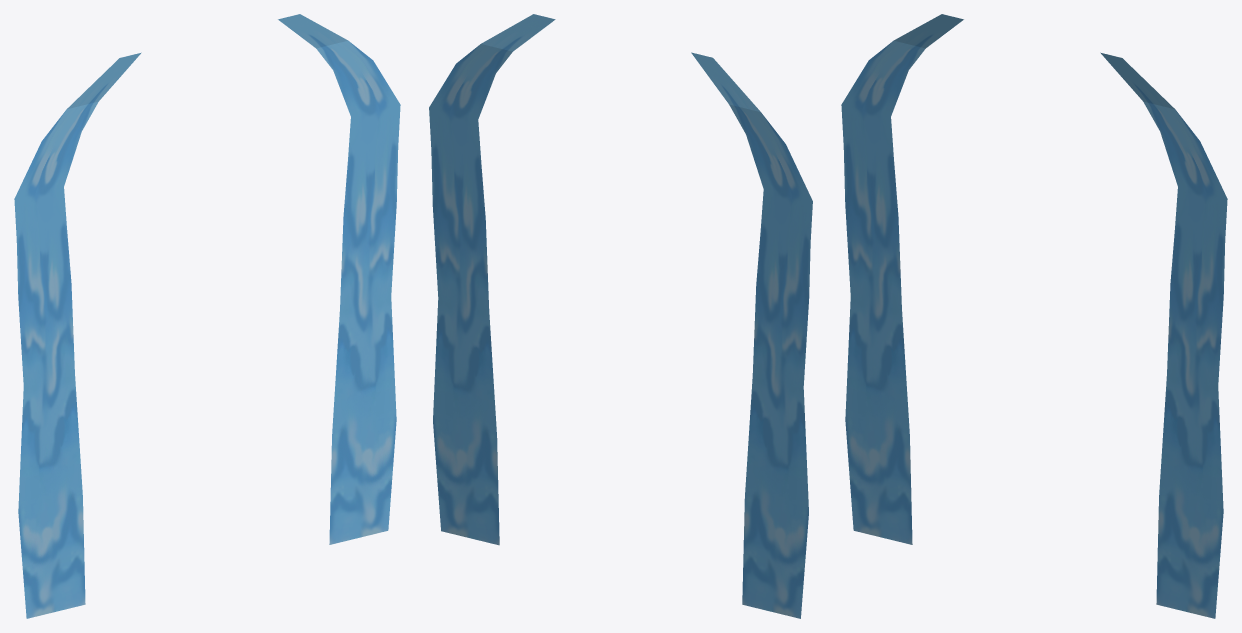
File: thac(1).fbx
3 views of the same model, side by side, from view 1: azimuth 30°, elevation 25°; view 2: azimuth 150°, elevation 25°; view 3: azimuth 330°, elevation 25° (orthographic).
Visible parts, largest first — view 1: pPlane36; view 2: pPlane36; view 3: pPlane36.
Part boxes in pixels (bbox=[...]): pPlane36: bbox=[14, 14, 400, 618]; pPlane36: bbox=[429, 14, 812, 618]; pPlane36: bbox=[841, 14, 1227, 618].
Size of the model in its own units: 57.99 by 77.57 by 0.6099.
